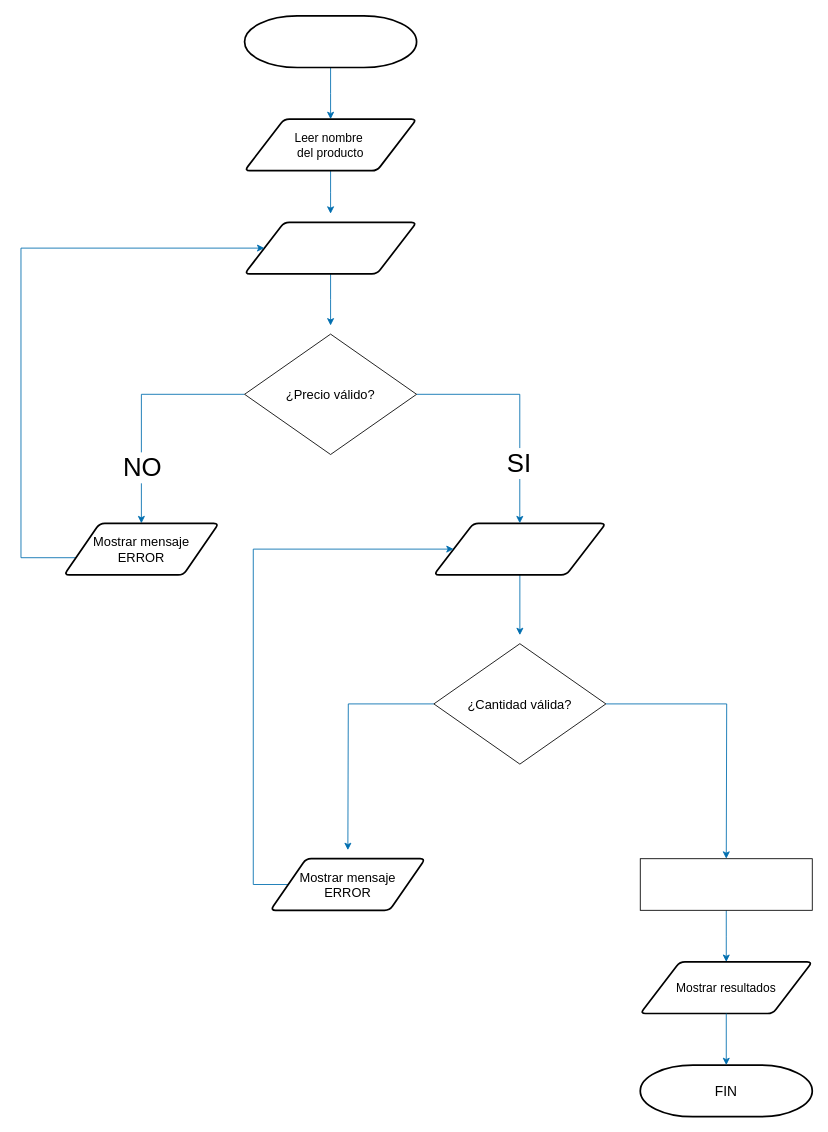
The diagram is 828 pixels wide and 1132 high, and some of its shapes have lost their labels. Each missing label, with the centre of its shape:
"costo_total = precio * cantidad" goes at (x=725, y=884).
"inicio" goes at (x=330, y=41).
"Leer cantidad del producto" goes at (x=519, y=548).
"Leer precio del producto" goes at (x=330, y=247).
